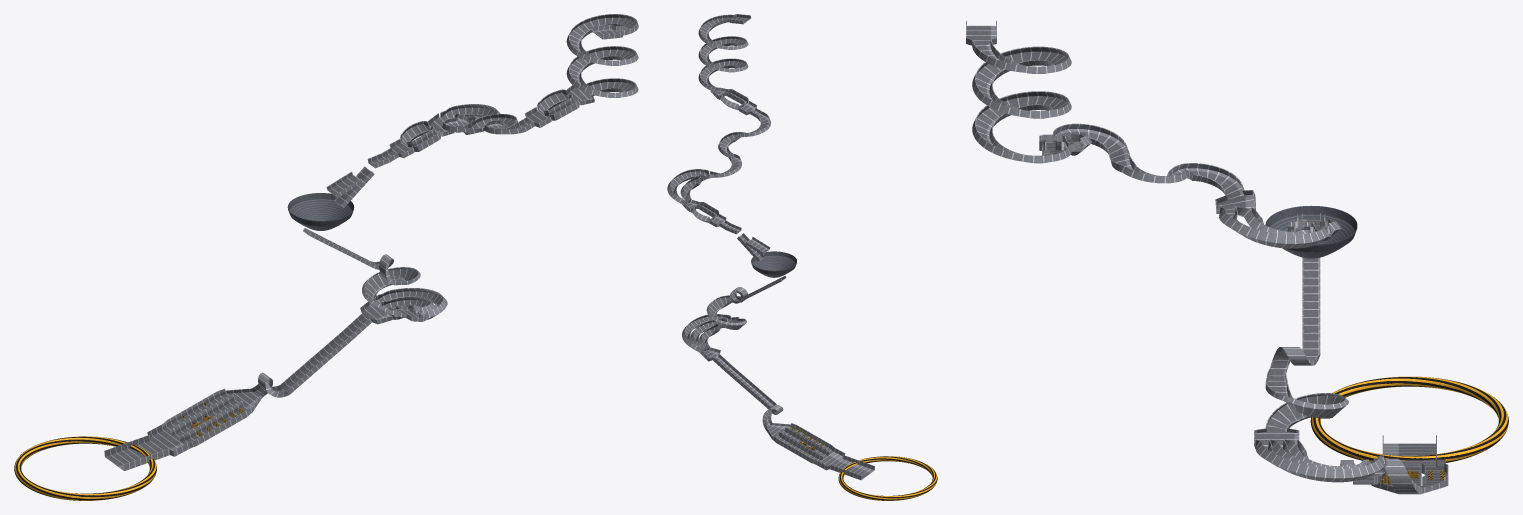
Rendered from marble_track.glb.
3 views of the same model, side by side, from view 1: azimuth 30°, elevation 25°; view 2: azimuth 150°, elevation 25°; view 3: azimuth 270°, elevation 25° (orthographic). The views are drawn at different scales.
Parts seen in each view (by area): view 1: Track-Upper, Track-LowerB, Track-Bumper, Track-LowerA, Track-LowerC, Track-Bowl, Track-Mid, Track-Haz-pegs, Track-Lane2-outer, Track-Haz-gates, Track-Haz-paddle; view 2: Track-Upper, Track-LowerB, Track-Mid, Track-Bumper, Track-LowerA, Track-LowerC, Track-Bowl, Track-Haz-gates, Track-Split-B-outer, Track-Lane2-outer, Track-Haz-pegs, Track-Haz-paddle (+2 smaller); view 3: Track-Upper, Track-LowerA, Track-Mid, Track-Bumper, Track-Bowl, Track-Lane2-outer, Track-Split-B-outer, Track-LowerB, Track-LowerC, Track-Split-B-inner.
Boxes of the visible parts, x1=… form: Track-Upper: x1=566, y1=14, x2=638, y2=105; Track-LowerB: x1=226, y1=301, x2=392, y2=412; Track-Bumper: x1=14, y1=436, x2=156, y2=500; Track-LowerA: x1=303, y1=228, x2=423, y2=321; Track-LowerC: x1=104, y1=424, x2=188, y2=470; Track-Bowl: x1=287, y1=193, x2=354, y2=230; Track-Mid: x1=442, y1=107, x2=551, y2=134; Track-Haz-pegs: x1=178, y1=401, x2=252, y2=448; Track-Lane2-outer: x1=376, y1=288, x2=447, y2=321; Track-Haz-gates: x1=162, y1=388, x2=232, y2=435; Track-Haz-paddle: x1=170, y1=394, x2=241, y2=441; Track-Upper: x1=698, y1=14, x2=751, y2=99; Track-LowerB: x1=700, y1=347, x2=790, y2=439; Track-Mid: x1=700, y1=100, x2=770, y2=181; Track-Bumper: x1=838, y1=456, x2=937, y2=500; Track-LowerA: x1=706, y1=275, x2=786, y2=329; Track-LowerC: x1=816, y1=448, x2=874, y2=480; Track-Bowl: x1=751, y1=251, x2=796, y2=277; Track-Haz-gates: x1=772, y1=431, x2=823, y2=464; Track-Split-B-outer: x1=667, y1=169, x2=709, y2=204; Track-Lane2-outer: x1=682, y1=314, x2=731, y2=352; Track-Haz-pegs: x1=786, y1=423, x2=834, y2=455; Track-Haz-paddle: x1=780, y1=427, x2=829, y2=459; Track-Upper: x1=966, y1=20, x2=1082, y2=163; Track-LowerA: x1=1254, y1=257, x2=1348, y2=446; Track-Mid: x1=1043, y1=123, x2=1255, y2=213; Track-Bumper: x1=1310, y1=376, x2=1508, y2=462; Track-Bowl: x1=1265, y1=205, x2=1357, y2=258; Track-Lane2-outer: x1=1255, y1=439, x2=1384, y2=482; Track-Split-B-outer: x1=1219, y1=206, x2=1328, y2=248; Track-LowerB: x1=1340, y1=456, x2=1445, y2=494; Track-LowerC: x1=1382, y1=435, x2=1445, y2=471; Track-Split-B-inner: x1=1236, y1=206, x2=1308, y2=234.
Size of the model in its own units: 260 by 247 by 188.
6 materials, 6 textured.
